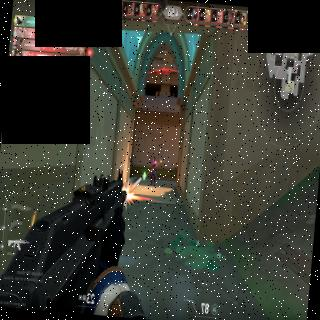ENEMY-BODY: (150, 156, 158, 187)
ENEMY-HEAD: (153, 156, 156, 162)
